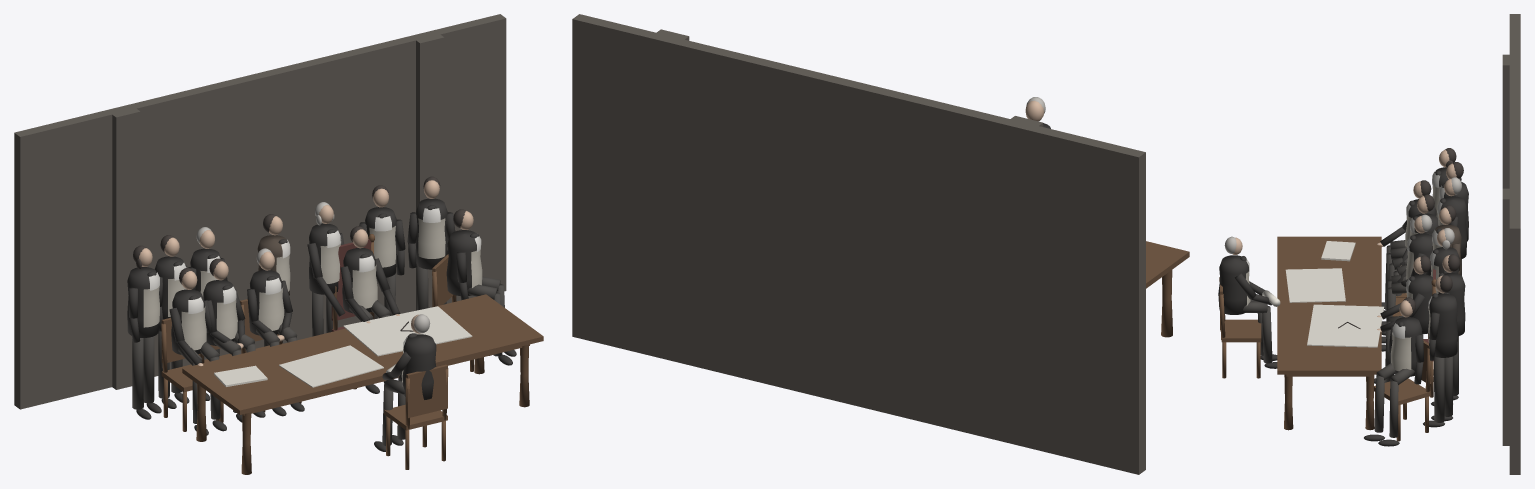
The model's file is scan-fig04-royal-commissioners-muse.glb.
3 renders of one model, left to right at view 1: azimuth 30°, elevation 25°; view 2: azimuth 150°, elevation 25°; view 3: azimuth 270°, elevation 25°, orthographic. The views are drawn at different scales.
Parts seen in each view (by area): view 1: BackWall, TableTop, Pilaster-1.6, Pilaster1.9, PlanSheetBig, PlanSheetMid, ChairWhiteBackPanel, WhiteHairCoat, RightSeatCoat, StandFLCoat, StandRightWaist, AlbertWaist (+22 smaller); view 2: BackWall, TableTop, TableLeg-1-1; view 3: TableTop, BackWall, PlanSheetBig, Pilaster1.9, PlanSheetMid, StandRightCoat, WhiteHairCoat, Pilaster-1.6, ChairWhiteSeat, AlbertCoat, StandRightLeg-1, ChairRightSeat (+13 smaller).
Boxes of the visible parts, x1,y1,x2,y2 form: BackWall: (14, 14, 506, 409); TableTop: (182, 294, 543, 414); Pilaster-1.6: (112, 108, 140, 389); Pilaster1.9: (416, 34, 444, 310); PlanSheetBig: (343, 306, 472, 356); PlanSheetMid: (279, 345, 383, 387); ChairWhiteBackPanel: (406, 364, 447, 417); WhiteHairCoat: (402, 334, 436, 399); RightSeatCoat: (446, 230, 476, 295); StandFLCoat: (127, 267, 158, 337); StandRightWaist: (418, 218, 445, 258); AlbertWaist: (352, 264, 377, 308); BackWall: (572, 14, 1145, 474); TableTop: (1146, 241, 1189, 288); TableLeg-1-1: (1161, 270, 1172, 337); TableTop: (1277, 236, 1381, 374); BackWall: (1509, 14, 1520, 474); PlanSheetBig: (1307, 304, 1384, 347); Pilaster1.9: (1502, 188, 1511, 445); PlanSheetMid: (1285, 268, 1345, 302); StandRightCoat: (1429, 293, 1457, 357); WhiteHairCoat: (1218, 255, 1248, 314); Pilaster-1.6: (1502, 54, 1511, 188); ChairWhiteSeat: (1221, 319, 1261, 342); AlbertCoat: (1408, 274, 1432, 334); StandRightLeg-1: (1434, 356, 1444, 422); ChairRightSeat: (1374, 378, 1430, 405).
Size of the model in its own units: 5.6 by 3 by 3.33.
